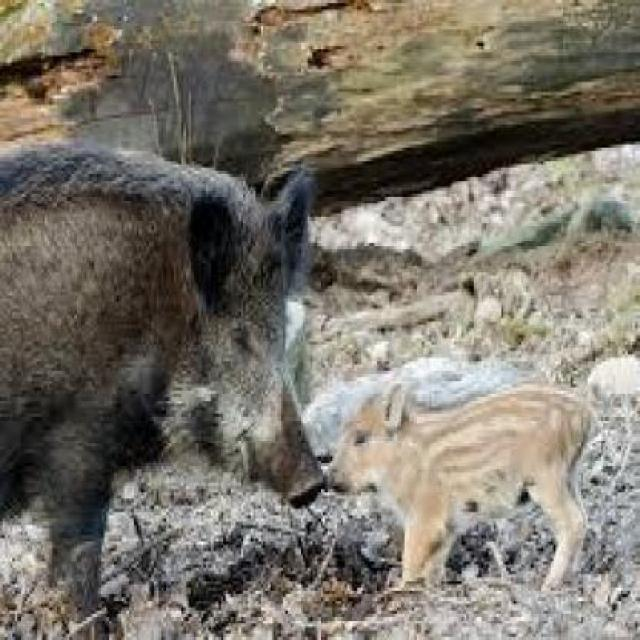wildboar: (0, 134, 325, 640), (320, 386, 602, 600)
